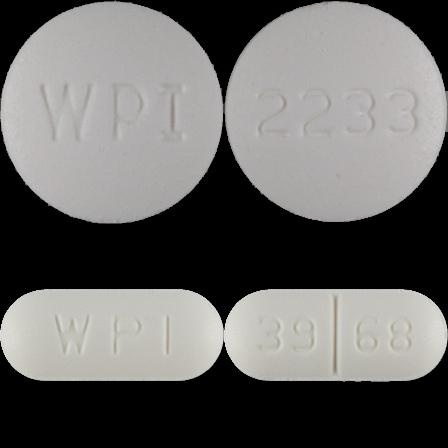0591-2473: (0, 0, 224, 224)
